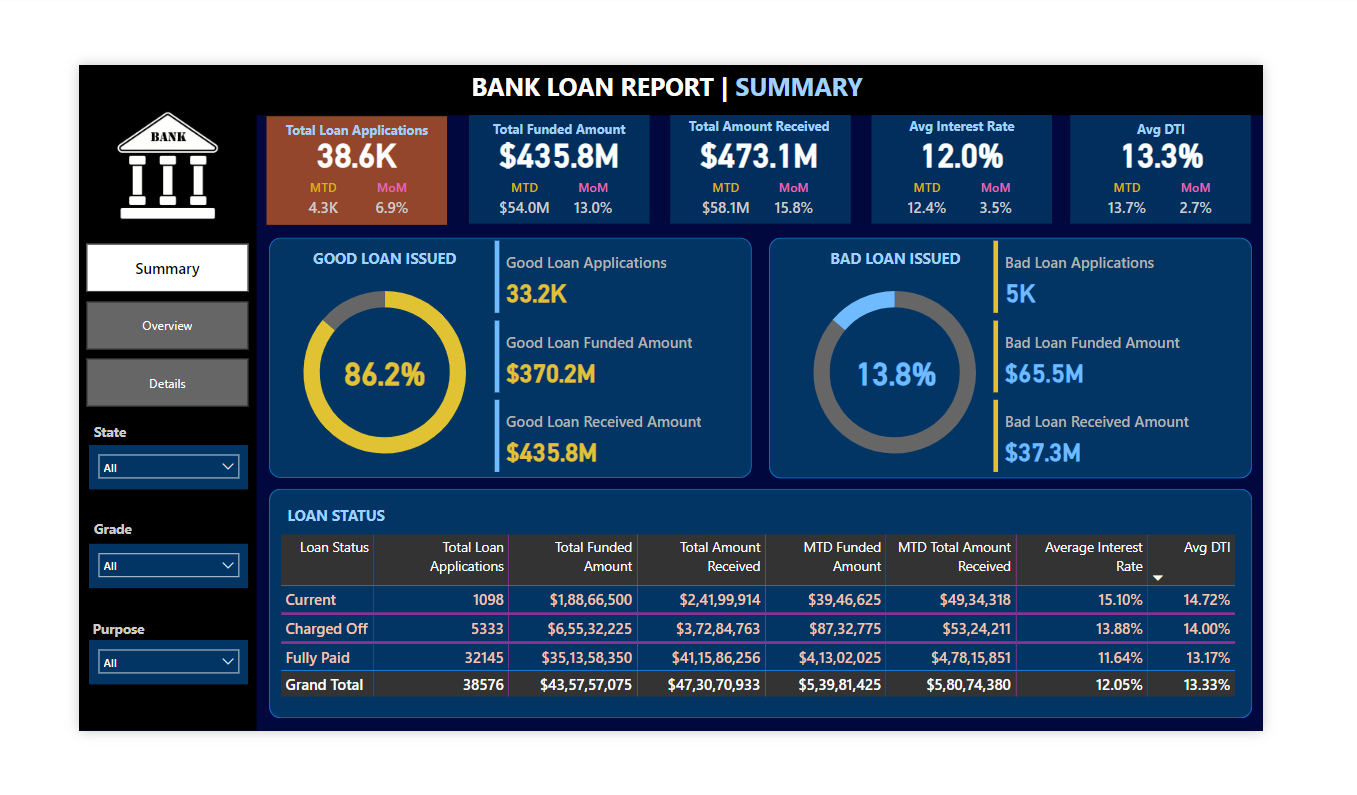

What the dashboard file says about the page in this screenshot:
{"tool":"powerbi","page":{"name":"Summary","canvas":[1280,720],"ordinal":0},"visuals":[{"type":"shape","box":[0,0,1280.2,54.3],"z":0},{"type":"shape","box":[203.3,54.9,195.3,117.4],"z":1000},{"type":"shape","box":[0,54.7,192,665.3],"z":2000},{"type":"textbox","box":[418.5,0,486.4,48.1],"z":3000},{"type":"card","fields":{"Values":["bank_loan_data.Total Loan Applications"]},"box":[203.3,72.4,195.3,44.2],"z":4000},{"type":"textbox","box":[203.3,54.9,195.3,34.9],"z":5000},{"type":"card","title":"MTD","fields":{"Values":["bank_loan_data.MTD Loan Applications"]},"box":[227.2,123.5,74.1,49.4],"z":6000},{"type":"card","title":"MoM","fields":{"Values":["bank_loan_data.MoM Loan Applications"]},"box":[301.2,123.5,74.1,49.4],"z":7000},{"type":"shape","box":[421.1,54.2,195.3,117.4],"z":8000},{"type":"card","fields":{"Values":["bank_loan_data.Total Funded Amount"]},"box":[421,72.8,195.1,44.4],"z":9000},{"type":"textbox","box":[421,54.3,195.1,35.8],"z":10000},{"type":"card","title":"MTD","fields":{"Values":["bank_loan_data.MTD Funded Amount"]},"box":[444.4,123.5,74.1,48.1],"z":11000},{"type":"card","title":"MoM","fields":{"Values":["bank_loan_data.MoM Total Funded Amount"]},"box":[518.5,123.5,74.1,48.1],"z":12000},{"type":"shape","box":[638.8,54.4,195.3,117.4],"z":13000},{"type":"card","fields":{"Values":["bank_loan_data.Total Amount Received"]},"box":[638.3,72.8,195.1,44.4],"z":14000},{"type":"textbox","box":[638.3,51.9,195.1,34.6],"z":15000},{"type":"card","title":"MTD","fields":{"Values":["bank_loan_data.MTD Total Amount Received"]},"box":[661.7,123.5,74.1,49.4],"z":16000},{"type":"card","title":"MoM","fields":{"Values":["bank_loan_data.MoM Total Received Amount"]},"box":[735.8,123.5,75.3,49.4],"z":17000},{"type":"shape","box":[856.5,54.4,195.3,117.4],"z":18000},{"type":"card","fields":{"Values":["bank_loan_data.Average Interest Rate"]},"box":[856.8,72.8,195.1,44.4],"z":19000},{"type":"textbox","box":[856.8,51.9,195.1,34.6],"z":20000},{"type":"card","title":"MTD","fields":{"Values":["bank_loan_data.MTD Avg Int Rate"]},"box":[880.2,123.5,74.1,48.1],"z":21000},{"type":"card","title":"MoM","fields":{"Values":["bank_loan_data.MoM Avg Int Rate"]},"box":[954.3,123.5,74.1,48.1],"z":22000},{"type":"shape","box":[1071.7,53.7,195.3,117.4],"z":23000},{"type":"card","fields":{"Values":["bank_loan_data.Avg DTI"]},"box":[1072.8,72.8,195.1,44.4],"z":24000},{"type":"textbox","box":[1071.6,54.3,196.3,32.1],"z":25000},{"type":"card","title":"MTD","fields":{"Values":["bank_loan_data.MTD DTI"]},"box":[1096.3,123.5,74.1,48.1],"z":26000},{"type":"card","title":"MoM","fields":{"Values":["bank_loan_data.MoM Avg DTI"]},"box":[1170.4,123.5,74.1,48.1],"z":27000},{"type":"shape","box":[204.9,186.4,522,260],"z":28000},{"type":"shape","box":[745.7,186.4,522.2,260.5],"z":29000},{"type":"donutChart","fields":{"Category":["bank_loan_data.Good v Bad Loan"],"Y":["bank_loan_data.Total Loan Applications"]},"box":[204.9,217.3,250.6,229.6],"z":30000},{"type":"card","fields":{"Values":["bank_loan_data.Good Loan %"]},"box":[267.9,309.9,125.9,44.4],"z":31000},{"type":"textbox","box":[230.9,193.8,198.8,45.7],"z":32000},{"type":"cardVisual","fields":{"Data":["bank_loan_data.Good Loan Applications","bank_loan_data.Good Loan Funded Amount","bank_loan_data.Good Loan Received Amount"]},"box":[444.4,185.2,282.7,260.5],"z":33000},{"type":"donutChart","fields":{"Category":["bank_loan_data.Good v Bad Loan"],"Y":["bank_loan_data.Total Loan Applications"]},"box":[756.8,217.3,250.6,229.6],"z":34000},{"type":"textbox","box":[797.5,193.8,170.4,39.5],"z":35000},{"type":"card","fields":{"Values":["bank_loan_data.Bad Loan %"]},"box":[819.8,309.9,125.9,44.4],"z":36000},{"type":"cardVisual","fields":{"Data":["bank_loan_data.Bad Loan Applications","bank_loan_data.Bad Loan Funded Amount","bank_loan_data.Bad Loan Received Amount"]},"box":[984,185.2,282.7,260.5],"z":37000},{"type":"shape","box":[204.9,458,1063,248.1],"z":38000},{"type":"tableEx","fields":{"Values":["bank_loan_data.loan_status","bank_loan_data.Total Loan Applications","bank_loan_data.Total Funded Amount","bank_loan_data.Total Amount Received","bank_loan_data.MTD Funded Amount","bank_loan_data.MTD Total Amount Received","bank_loan_data.Average Interest Rate","bank_loan_data.Avg DTI"]},"box":[212,502.7,1046.7,190.7],"z":39000},{"type":"textbox","box":[220,470.7,198.7,45.3],"z":40000},{"type":"slicer","fields":{"Values":["bank_loan_data.address_state"]},"box":[10.7,410.7,172,48],"z":41000},{"type":"textbox","box":[10.7,381.3,96,45.3],"z":42000},{"type":"slicer","fields":{"Values":["bank_loan_data.grade"]},"box":[10.7,517.3,172,48],"z":43000},{"type":"textbox","box":[10.7,486.7,97.3,45.3],"z":44000},{"type":"slicer","fields":{"Values":["bank_loan_data.purpose"]},"box":[10.7,621.3,172,48],"z":45000},{"type":"textbox","box":[9.3,594.7,97.3,45.3],"z":46000},{"type":"image","box":[0,27.5,192.5,163.8],"z":46001},{"type":"pageNavigator","box":[8.8,193.8,175,178.8],"z":46002}]}

Visuals, with their boxes on the page's 1280x720 design canvas (x1, y1, x2, y2). These are canvas units, not pixel positions in the 1357x795 screenshot, which may show the page scaled, cropped or inside an application window:
shape: region(0, 0, 1280, 54)
shape: region(203, 55, 399, 172)
shape: region(0, 55, 192, 720)
textbox: region(418, 0, 905, 48)
card - bank_loan_data.Total Loan Applications: region(203, 72, 399, 117)
textbox: region(203, 55, 399, 90)
"MTD" card: region(227, 124, 301, 173)
"MoM" card: region(301, 124, 375, 173)
shape: region(421, 54, 616, 172)
card - bank_loan_data.Total Funded Amount: region(421, 73, 616, 117)
textbox: region(421, 54, 616, 90)
"MTD" card: region(444, 124, 518, 172)
"MoM" card: region(518, 124, 593, 172)
shape: region(639, 54, 834, 172)
card - bank_loan_data.Total Amount Received: region(638, 73, 833, 117)
textbox: region(638, 52, 833, 86)
"MTD" card: region(662, 124, 736, 173)
"MoM" card: region(736, 124, 811, 173)
shape: region(856, 54, 1052, 172)
card - bank_loan_data.Average Interest Rate: region(857, 73, 1052, 117)
textbox: region(857, 52, 1052, 86)
"MTD" card: region(880, 124, 954, 172)
"MoM" card: region(954, 124, 1028, 172)
shape: region(1072, 54, 1267, 171)
card - bank_loan_data.Avg DTI: region(1073, 73, 1268, 117)
textbox: region(1072, 54, 1268, 86)
"MTD" card: region(1096, 124, 1170, 172)
"MoM" card: region(1170, 124, 1244, 172)
shape: region(205, 186, 727, 446)
shape: region(746, 186, 1268, 447)
donutChart - bank_loan_data.Good v Bad Loan x bank_loan_data.Total Loan Applications: region(205, 217, 456, 447)
card - bank_loan_data.Good Loan %: region(268, 310, 394, 354)
textbox: region(231, 194, 430, 240)
cardVisual - bank_loan_data.Good Loan Applications x bank_loan_data.Good Loan Funded Amount: region(444, 185, 727, 446)
donutChart - bank_loan_data.Good v Bad Loan x bank_loan_data.Total Loan Applications: region(757, 217, 1007, 447)
textbox: region(798, 194, 968, 233)
card - bank_loan_data.Bad Loan %: region(820, 310, 946, 354)
cardVisual - bank_loan_data.Bad Loan Applications x bank_loan_data.Bad Loan Funded Amount: region(984, 185, 1267, 446)
shape: region(205, 458, 1268, 706)
tableEx - bank_loan_data.loan_status x bank_loan_data.Total Loan Applications: region(212, 503, 1259, 693)
textbox: region(220, 471, 419, 516)
slicer - bank_loan_data.address_state: region(11, 411, 183, 459)
textbox: region(11, 381, 107, 427)
slicer - bank_loan_data.grade: region(11, 517, 183, 565)
textbox: region(11, 487, 108, 532)
slicer - bank_loan_data.purpose: region(11, 621, 183, 669)
textbox: region(9, 595, 107, 640)
image: region(0, 28, 192, 191)
pageNavigator: region(9, 194, 184, 373)
